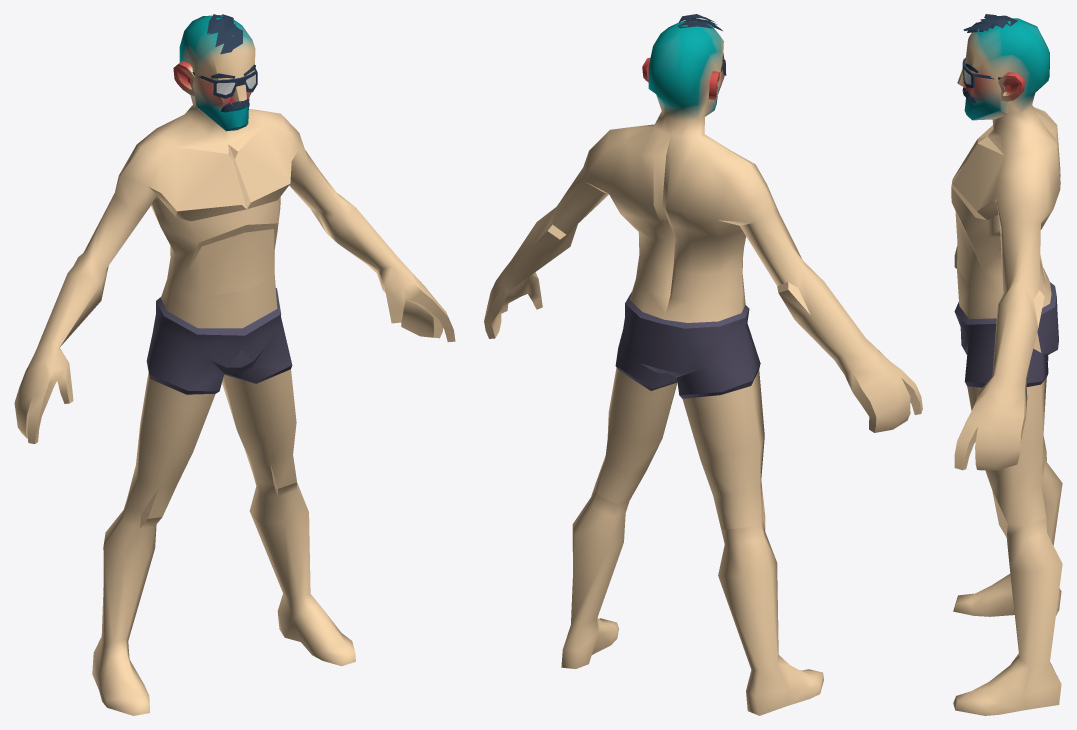
The model's file is capitan.fbx.
The picture shows the model from 3 angles, left to right: view 1: azimuth 30°, elevation 25°; view 2: azimuth 150°, elevation 25°; view 3: azimuth 270°, elevation 25°; orthographic projection. The views are drawn at different scales.
Visible parts, largest first — view 1: Cube, Hair; view 2: Cube; view 3: Cube, Hair, Okulary.
Boxes of the visible parts, x1,y1,x2,y2 form: Cube: (14, 14, 455, 715); Hair: (207, 14, 242, 54); Cube: (484, 21, 922, 715); Cube: (951, 18, 1062, 715); Hair: (963, 14, 1017, 32); Okulary: (962, 58, 1001, 88).
Size of the model in its own units: 1303 by 1913 by 302.
